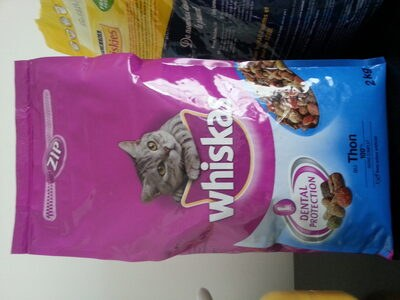Whiskas au thon: (20, 15, 380, 285)
